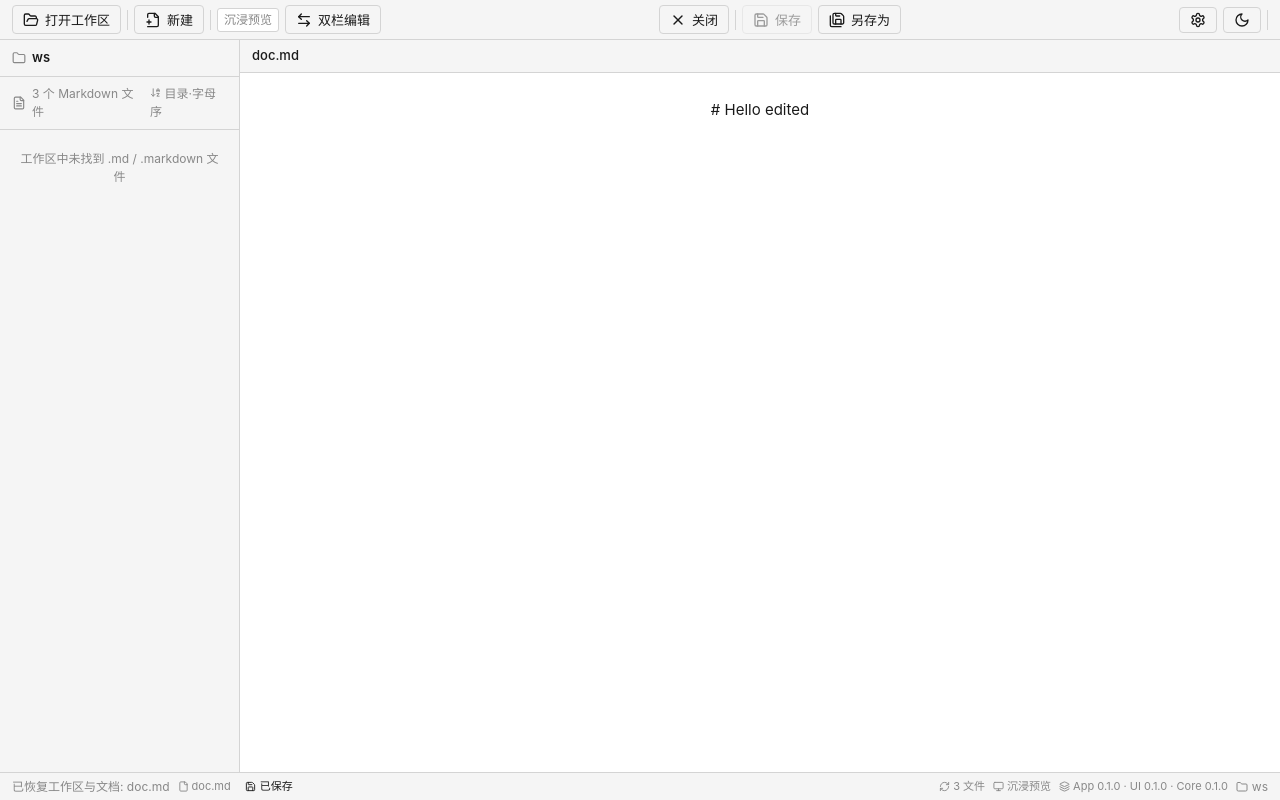
Test: T11 — 无感编辑器与保存状态联动 › immersive 编辑内容实时同步到 documentStore.content
The width and height of the screenshot is (1280, 800).
Clear the text box labelled "# Hello edited" at [760, 109], box left=711, top=100, right=809, bottom=118
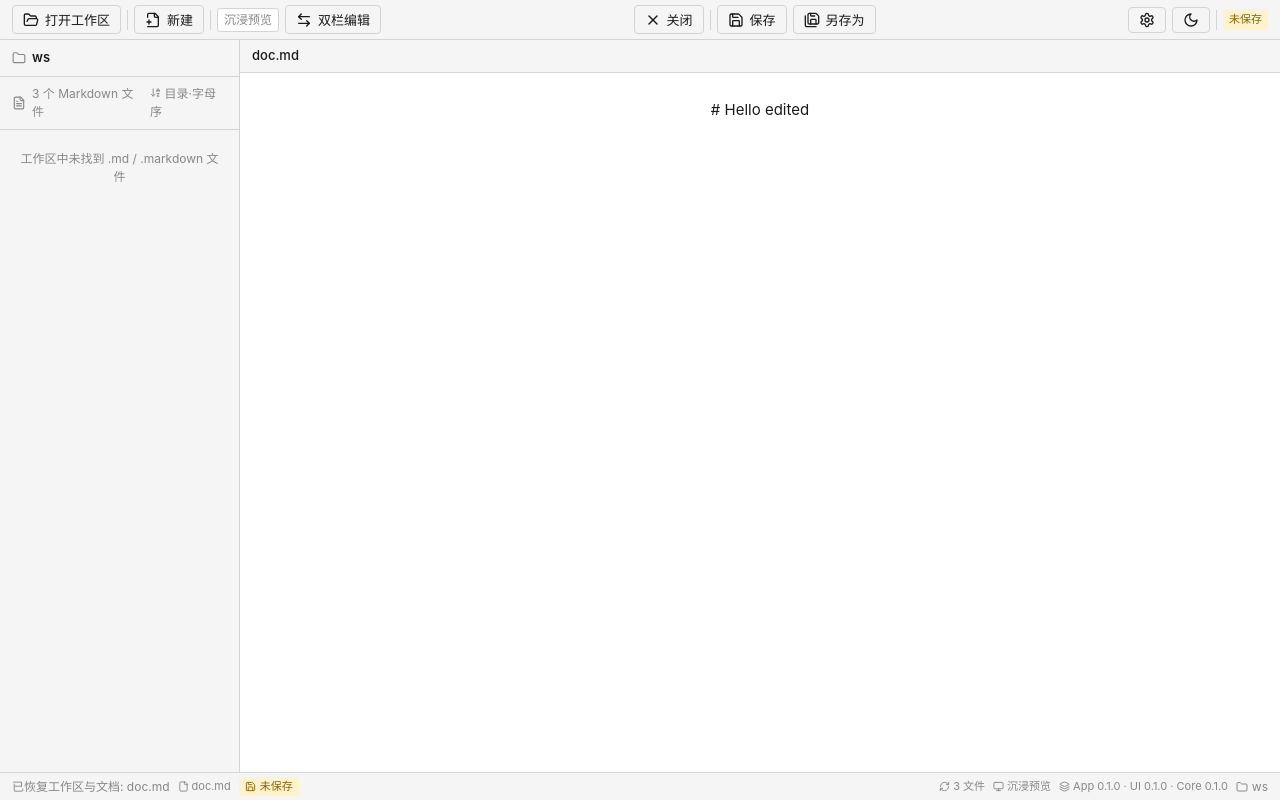
Note: Switch back to split-editor to read the authoritative content via textarea.
Press 2
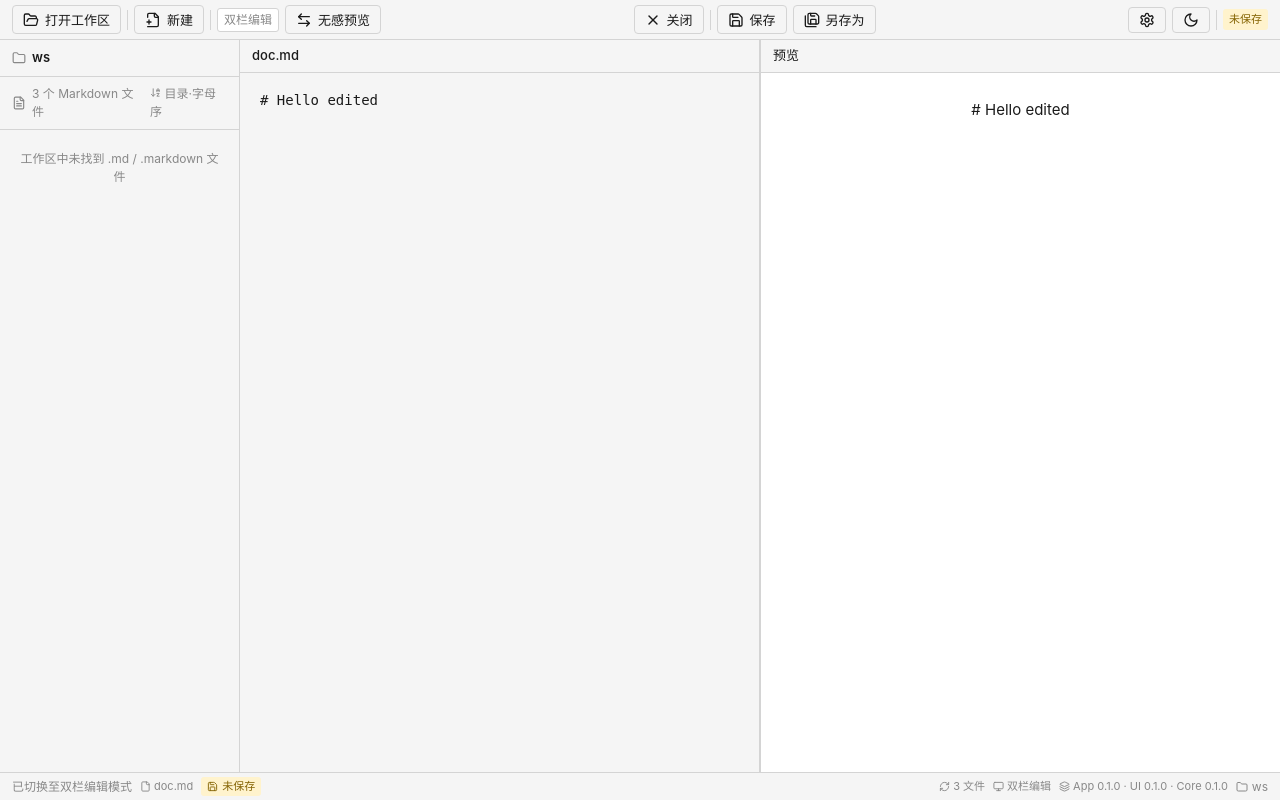
Expected: the text box with class "content-editor-textarea" is shown, left=240, top=72, right=759, bottom=772
